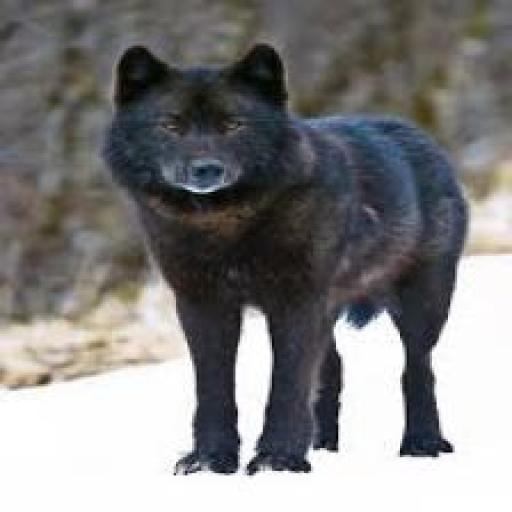wolf: (16, 34, 511, 485)
